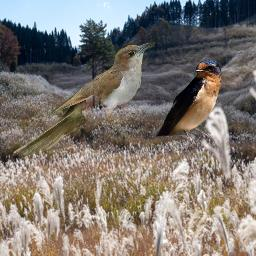Cuckoo: (12, 42, 155, 156)
Swallow: (155, 59, 221, 145)
